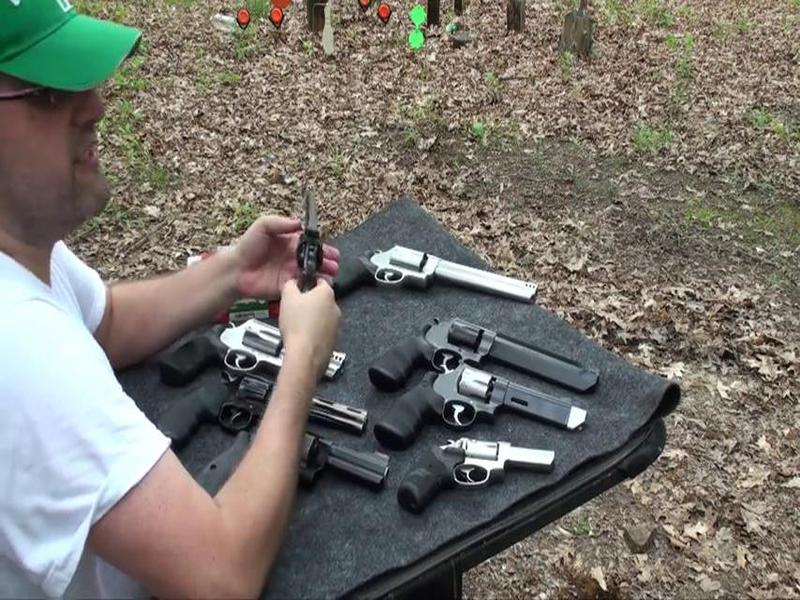Revolver: (280, 184, 336, 316)
